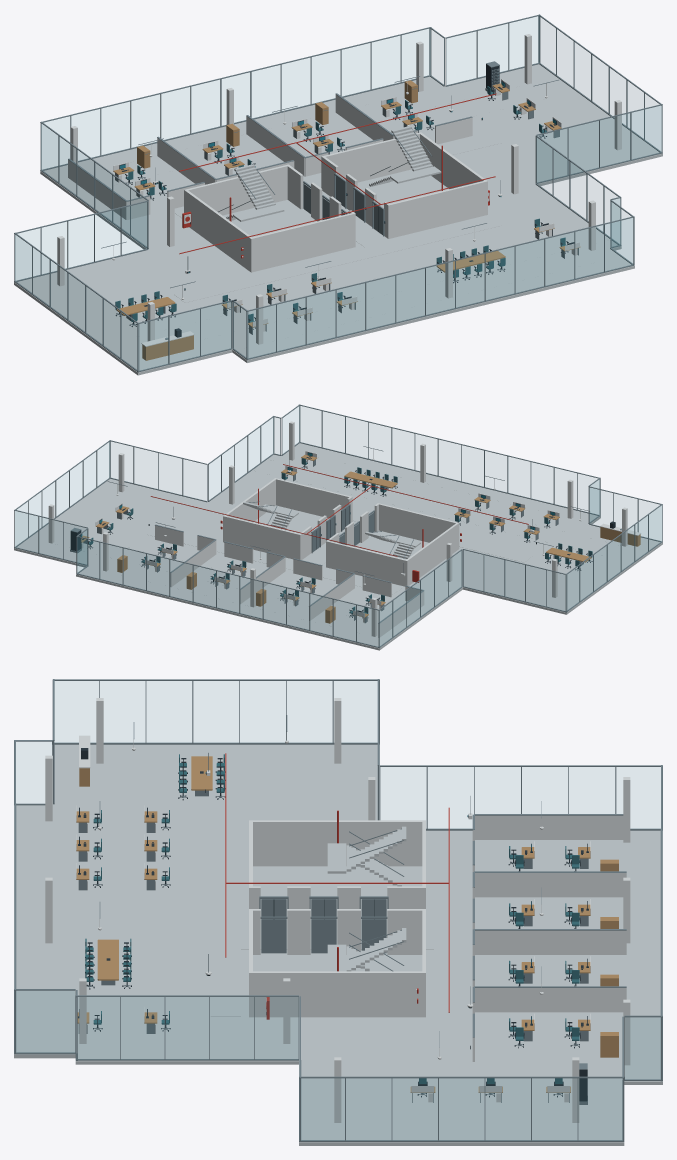
3 views of the same model, one above another, from view 1: azimuth 30°, elevation 25°; view 2: azimuth 150°, elevation 25°; view 3: azimuth 270°, elevation 25° (orthographic). The views are drawn at different scales.
Visible parts, largest first — view 1: T1_F03_SLAB, T1_F03_WHITE, T1_F03_GLASS_S, T1_F03_GLASS_N, T1_F03_STEEL, T1_F03_GLASS_W, T1_F03_GLASS_E, T1_F03_WOOD, T1_F03_FABRIC, T1_F03_DARK, T1_F03_RED; view 2: T1_F03_SLAB, T1_F03_WHITE, T1_F03_GLASS_N, T1_F03_GLASS_S, T1_F03_STEEL, T1_F03_GLASS_W, T1_F03_GLASS_E, T1_F03_WOOD, T1_F03_FABRIC, T1_F03_DARK, T1_F03_RED; view 3: T1_F03_SLAB, T1_F03_WHITE, T1_F03_GLASS_E, T1_F03_GLASS_W, T1_F03_STEEL, T1_F03_WOOD, T1_F03_FABRIC, T1_F03_DARK, T1_F03_RED.
Part boxes in pixels (left/top/right/bottom): T1_F03_SLAB: left=14, top=64, right=662, bottom=375; T1_F03_WHITE: left=57, top=34, right=621, bottom=346; T1_F03_GLASS_S: left=140, top=106, right=660, bottom=370; T1_F03_GLASS_N: left=19, top=17, right=538, bottom=267; T1_F03_STEEL: left=14, top=14, right=662, bottom=372; T1_F03_GLASS_W: left=15, top=125, right=245, bottom=369; T1_F03_GLASS_E: left=431, top=18, right=657, bottom=243; T1_F03_WOOD: left=113, top=80, right=580, bottom=360; T1_F03_FABRIC: left=115, top=86, right=566, bottom=322; T1_F03_DARK: left=115, top=64, right=574, bottom=337; T1_F03_RED: left=179, top=93, right=496, bottom=258; T1_F03_SLAB: left=14, top=443, right=662, bottom=650; T1_F03_WHITE: left=48, top=421, right=641, bottom=637; T1_F03_GLASS_N: left=15, top=512, right=564, bottom=646; T1_F03_GLASS_S: left=110, top=406, right=657, bottom=527; T1_F03_STEEL: left=14, top=404, right=662, bottom=648; T1_F03_GLASS_W: left=380, top=480, right=661, bottom=645; T1_F03_GLASS_E: left=18, top=408, right=298, bottom=536; T1_F03_WOOD: left=81, top=455, right=640, bottom=623; T1_F03_FABRIC: left=88, top=458, right=592, bottom=613; T1_F03_DARK: left=70, top=452, right=615, bottom=618; T1_F03_RED: left=150, top=464, right=528, bottom=582; T1_F03_SLAB: left=14, top=744, right=662, bottom=1145; T1_F03_WHITE: left=45, top=698, right=630, bottom=1122; T1_F03_GLASS_E: left=16, top=991, right=660, bottom=1139; T1_F03_GLASS_W: left=16, top=681, right=660, bottom=828; T1_F03_STEEL: left=14, top=679, right=662, bottom=1141; T1_F03_WOOD: left=76, top=756, right=618, bottom=1092; T1_F03_FABRIC: left=85, top=754, right=579, bottom=1083; T1_F03_DARK: left=78, top=748, right=588, bottom=1101; T1_F03_RED: left=225, top=753, right=449, bottom=1019.
Bounding box in the file's own units: 55.47 × 4.5 × 38.19.
